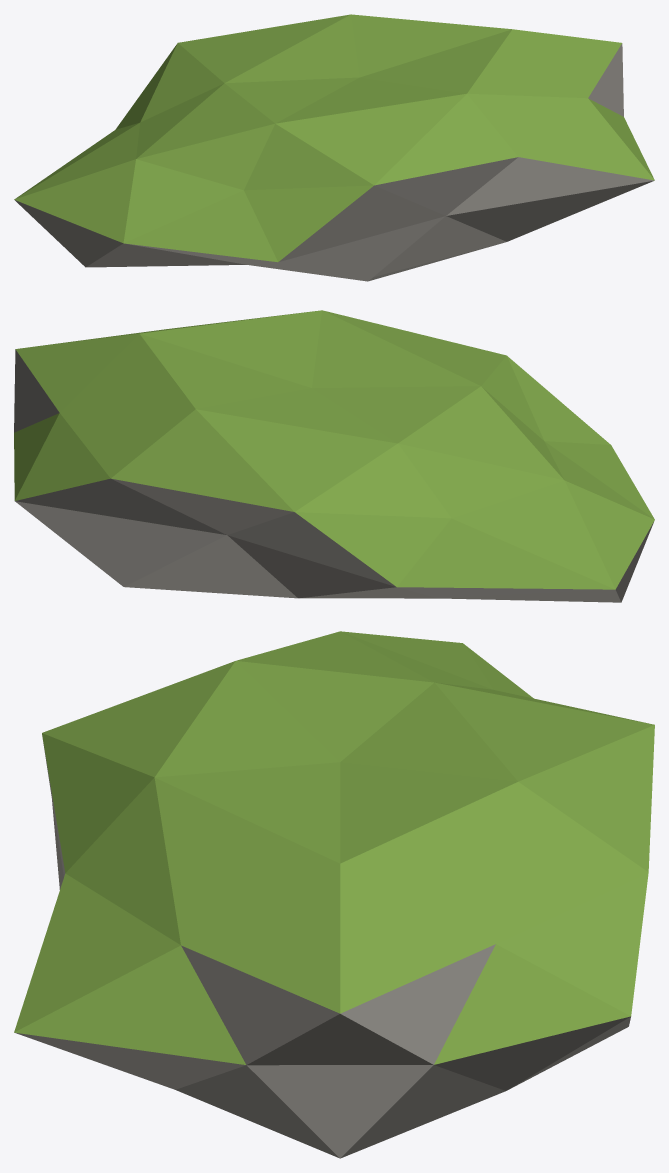
The model's file is RockC.glb.
The picture shows the model from 3 angles, top to bottom: view 1: azimuth 30°, elevation 25°; view 2: azimuth 150°, elevation 25°; view 3: azimuth 270°, elevation 25°; orthographic projection. The views are drawn at different scales.
Parts seen in each view (by area): view 1: RockC; view 2: RockC; view 3: RockC.
Part boxes in pixels (box(x1,y1,x2,y2)): RockC: box(14, 14, 654, 281); RockC: box(14, 310, 654, 602); RockC: box(14, 631, 654, 1158).
Bounding box in the file's own units: 3.94 × 1.3 × 2.4.
